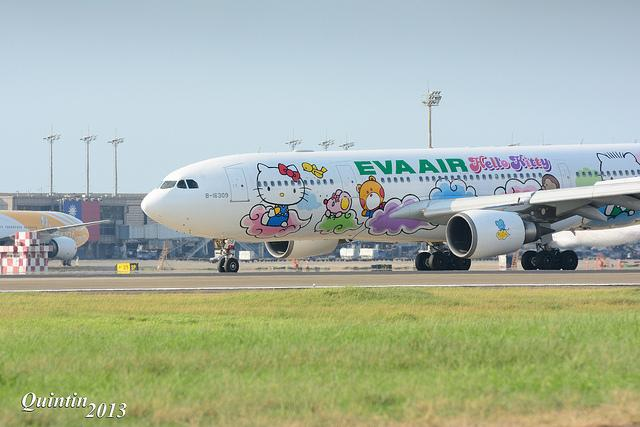airplane: (137, 139, 640, 273), (1, 202, 114, 266)
